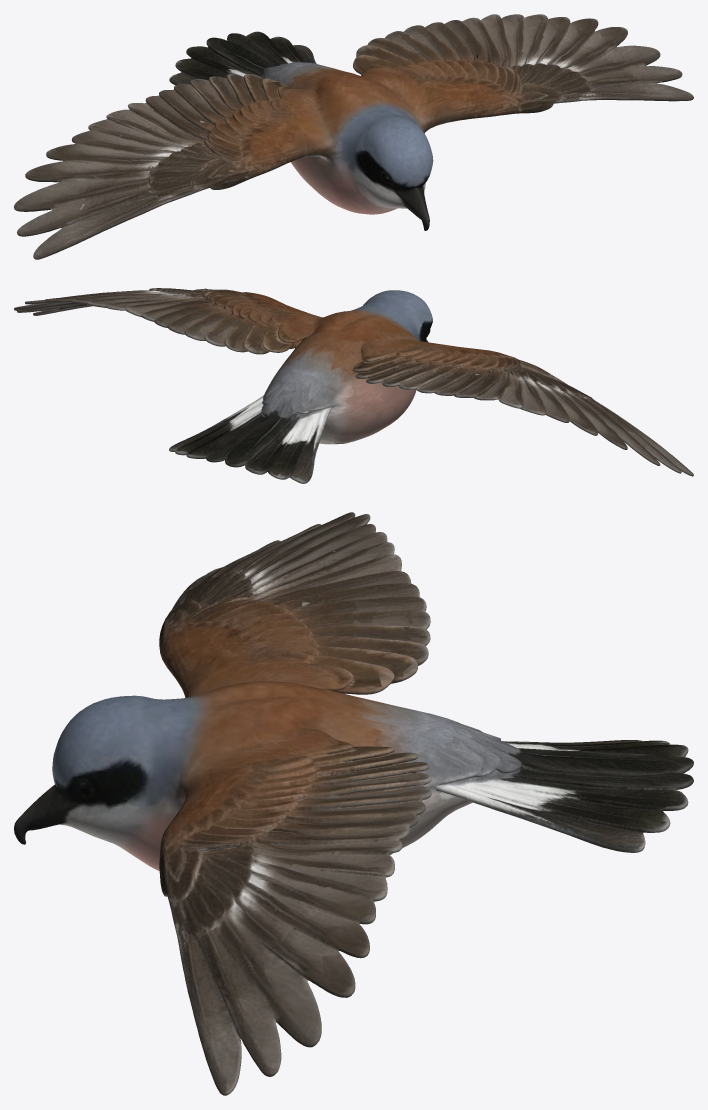
File: Lanius_collurio.glb
3 renders of one model, top to bottom at view 1: azimuth 30°, elevation 25°; view 2: azimuth 150°, elevation 25°; view 3: azimuth 270°, elevation 25°, orthographic. The views are drawn at different scales.
Visible parts, largest first — view 1: orient; view 2: orient; view 3: orient.
Boxes of the visible parts, x1=… form: orient: x1=14, y1=14, x2=693, y2=259; orient: x1=14, y1=288, x2=693, y2=483; orient: x1=14, y1=512, x2=693, y2=1095.
Size of the model in its own units: 0.5 by 0.0823 by 0.271.
Materials: 1 (1 with a texture image).
